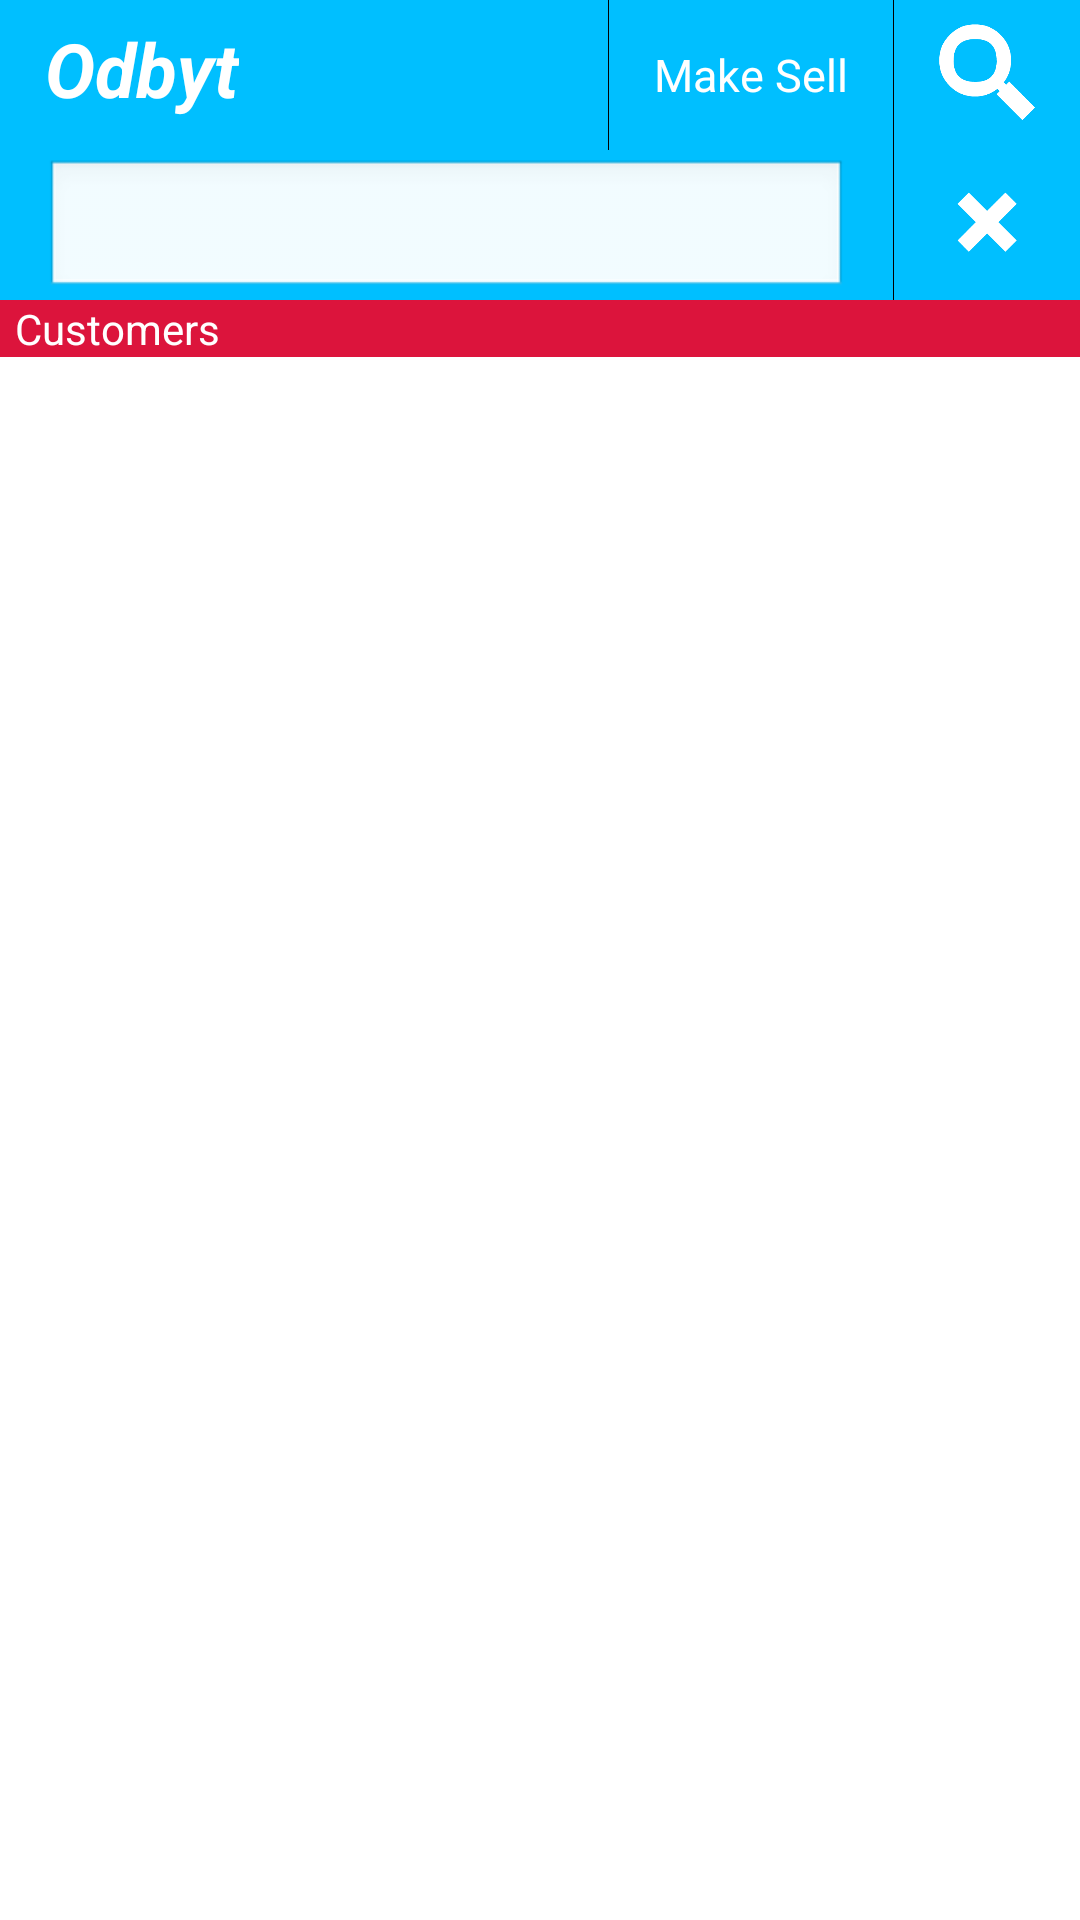

Where icons sit on this 1080×1920 app screen, as BBox(x1, y1, x2, y2):
close: BBox(957, 193, 1017, 252)
search: BBox(939, 24, 1035, 120)
